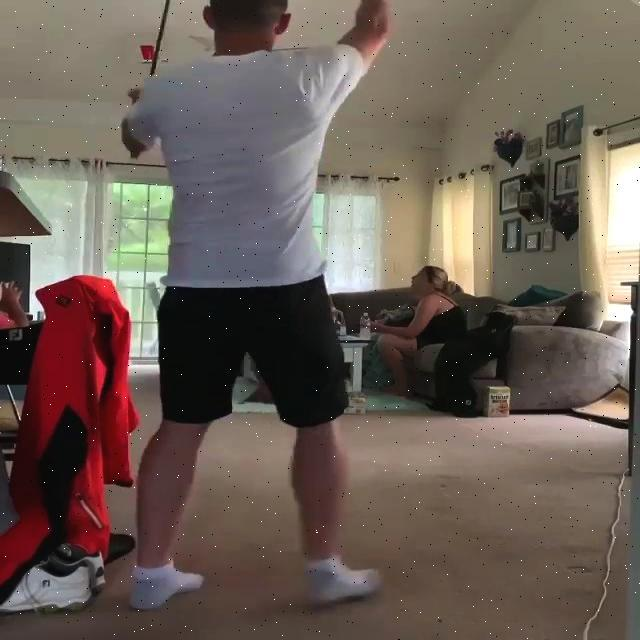golf club-handle: (129, 0, 173, 162)
